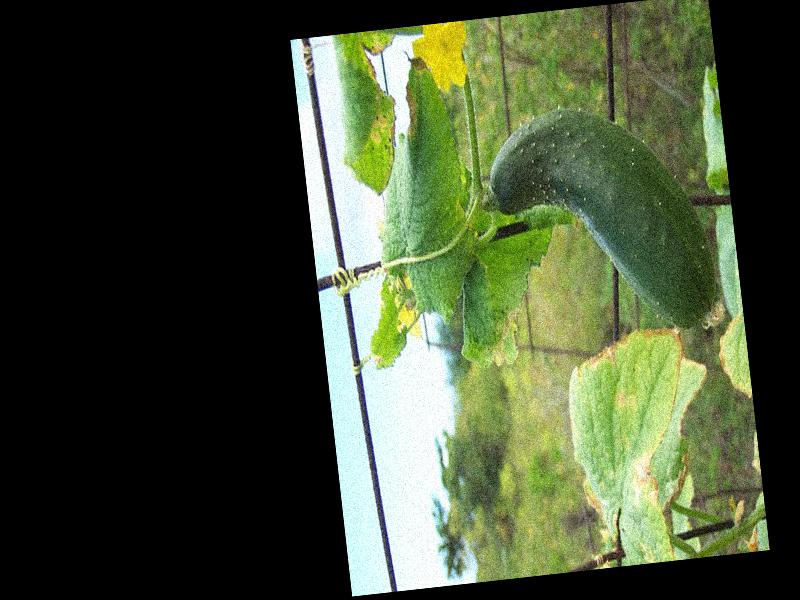Cucumber: (480, 96, 721, 352)
